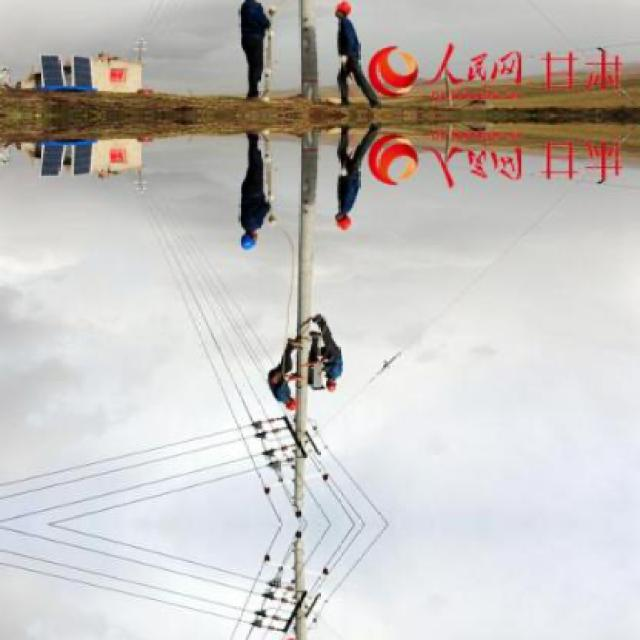con casco: (312, 186, 368, 250), (237, 215, 268, 258)
